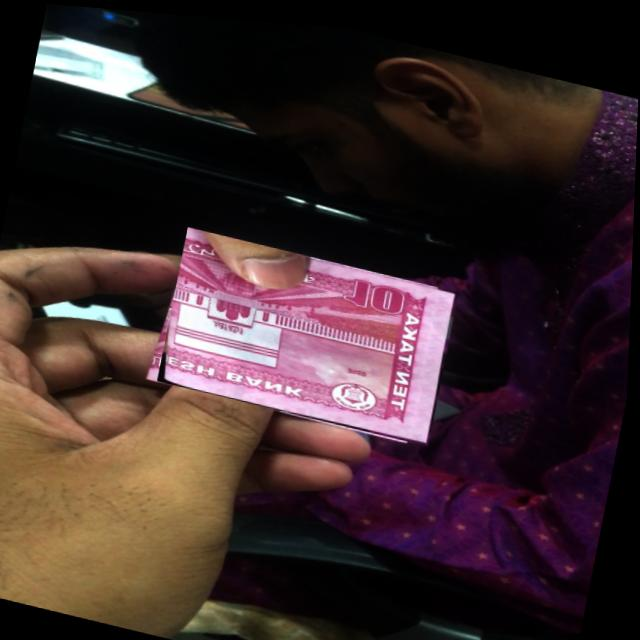Taka: (159, 222, 462, 441)
